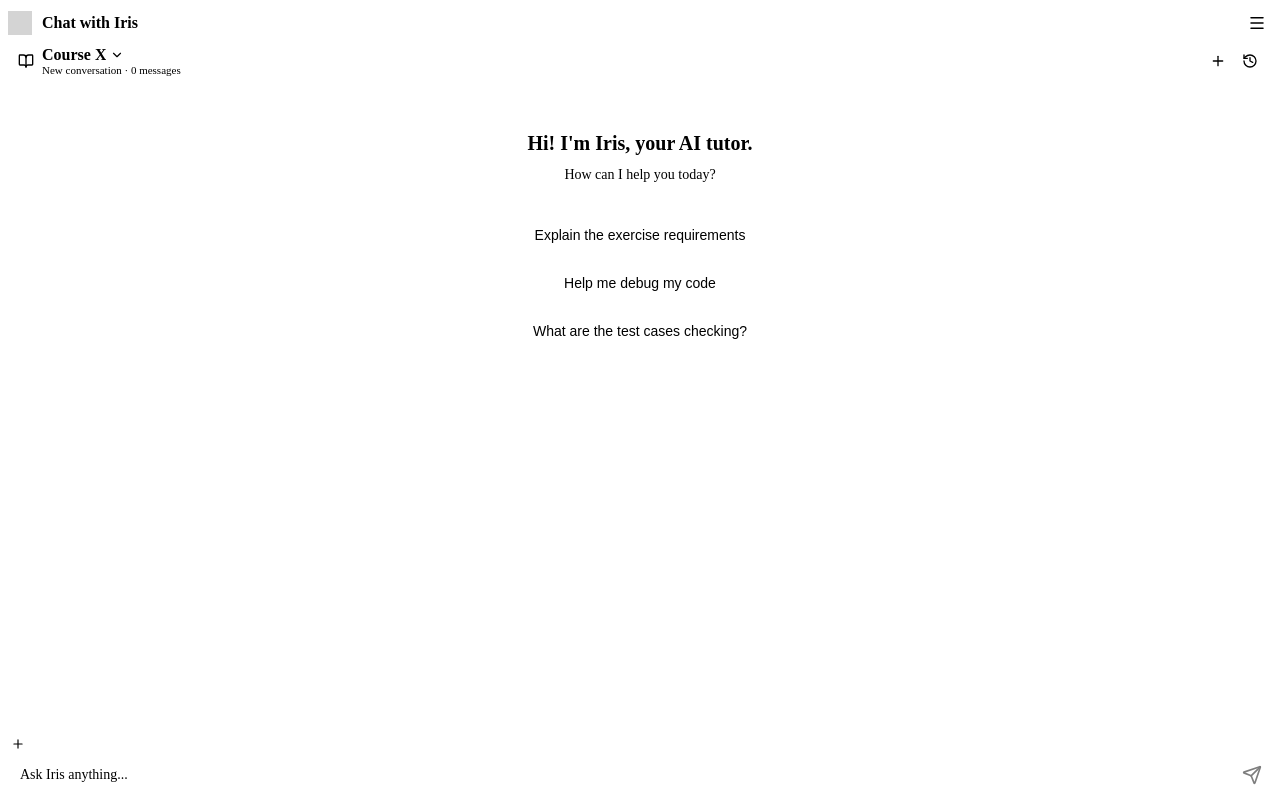
it: IrisChatView › Header popovers › opens the topic picker from the composer and posts selectTopic
Click the button named "Choose topic" at (18, 744), box [8, 734, 28, 754]
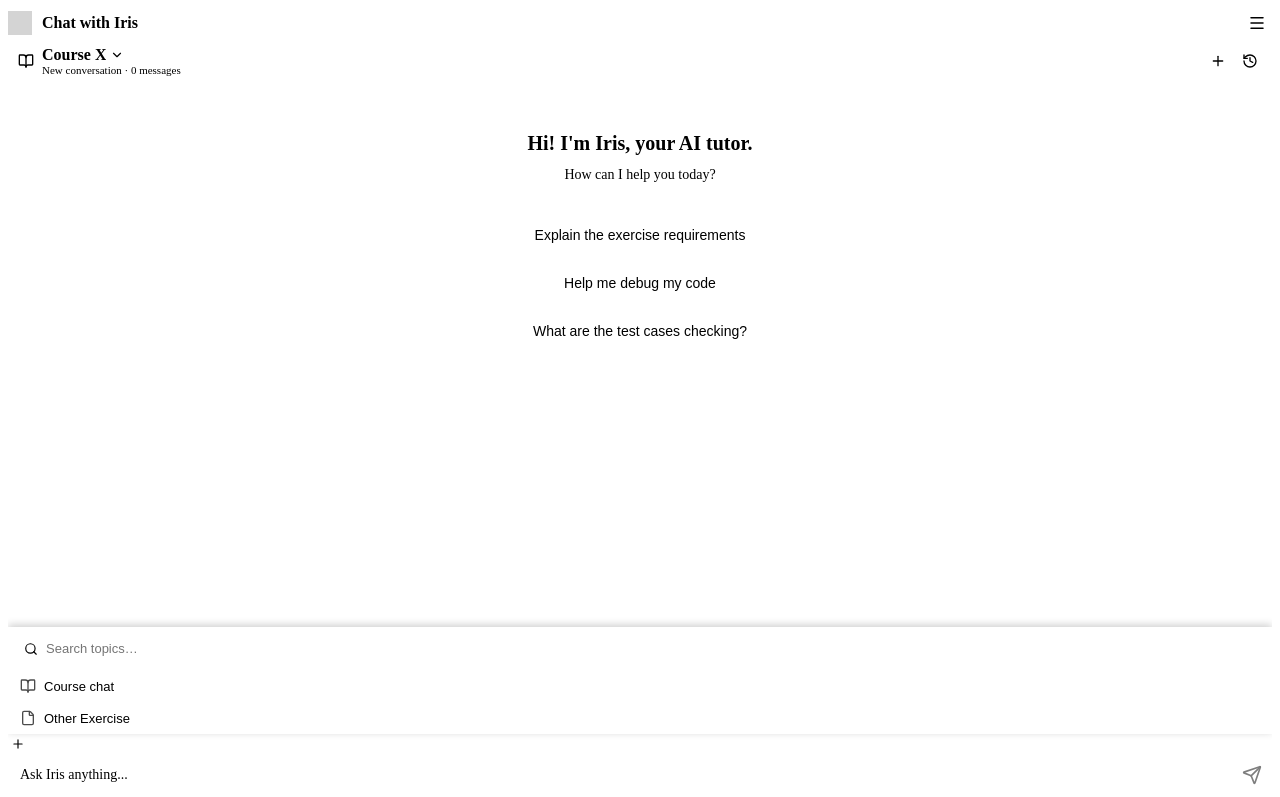
Expected: the text "Other Exercise" is shown, [44, 710, 130, 726]
Click the button "Other Exercise" at (87, 718), box [8, 702, 1272, 734]
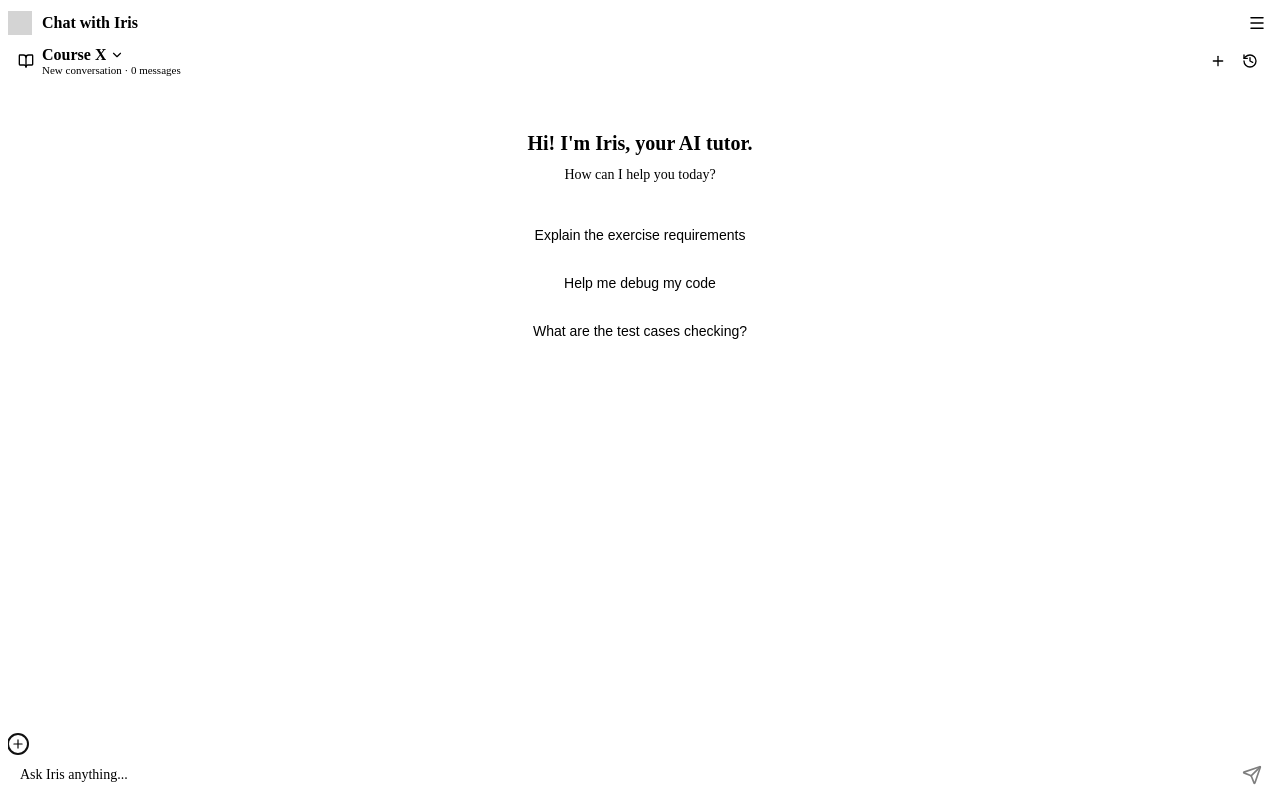
Expected: no dialogs are shown
